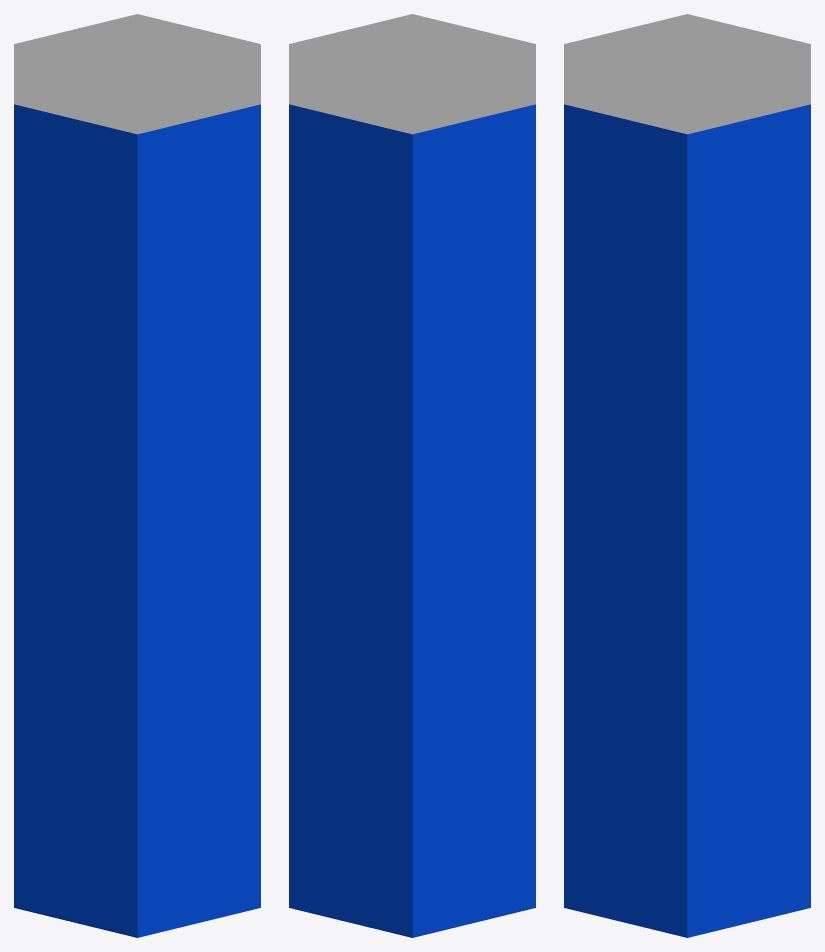
Rendered from HexagonThick.gltf.
3 views of the same model, side by side, from view 1: azimuth 30°, elevation 25°; view 2: azimuth 150°, elevation 25°; view 3: azimuth 270°, elevation 25° (orthographic).
Visible parts, largest first — view 1: Floorpranelthick; view 2: Floorpranelthick; view 3: Floorpranelthick.
Part boxes in pixels (x1,y1,x2,y2): Floorpranelthick: (14,14,260,937); Floorpranelthick: (289,14,535,937); Floorpranelthick: (564,14,810,937).
Size of the model in its own units: 5.55 by 17.27 by 4.81.
2 materials, 1 textured.
